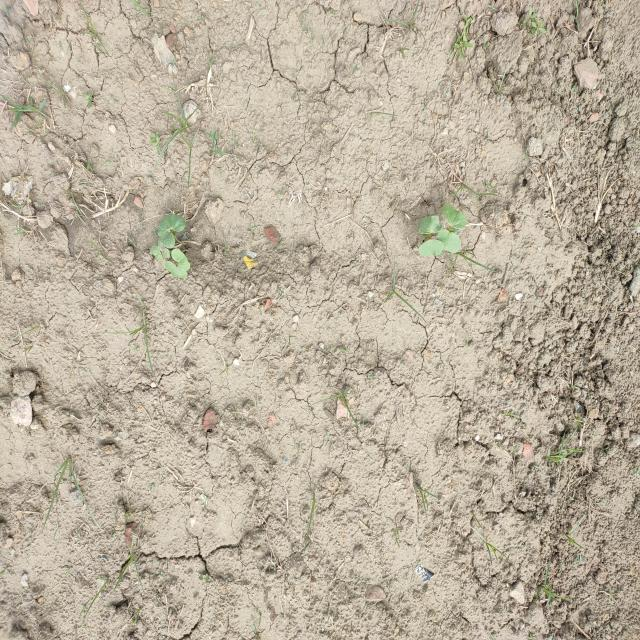seedling_s2: (442, 204, 467, 229), (437, 229, 461, 253), (417, 215, 443, 234), (418, 239, 444, 257), (171, 249, 190, 271), (159, 215, 185, 231), (165, 261, 188, 279), (158, 226, 175, 248), (150, 245, 165, 268), (158, 237, 170, 258)
